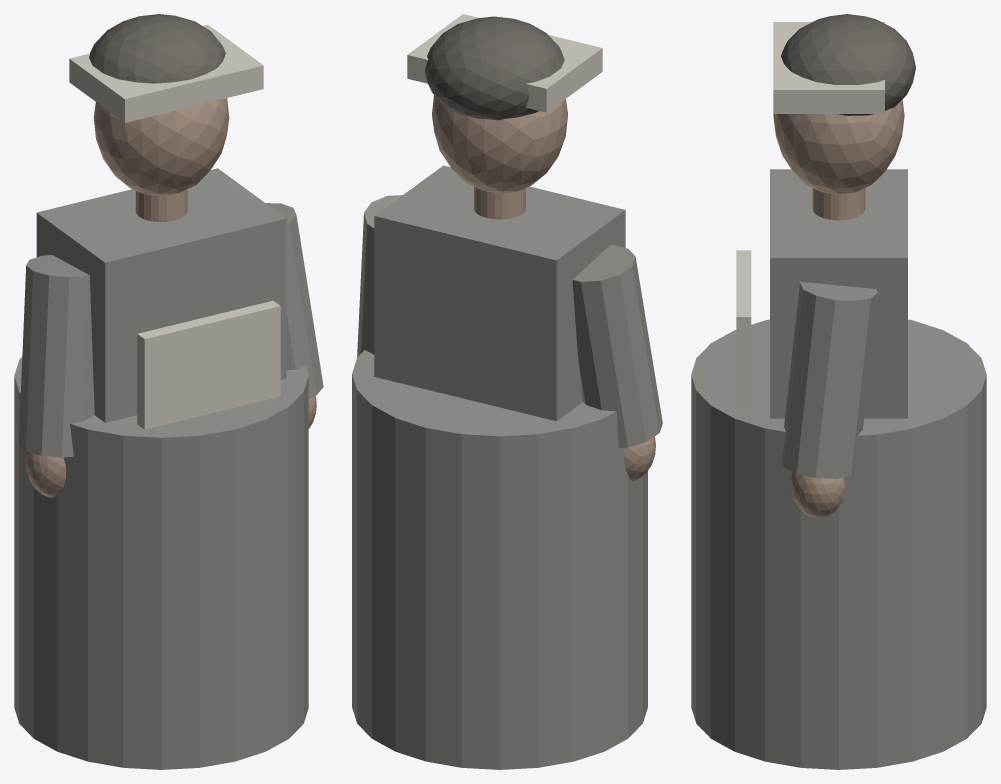
Rendered from ward-nurse.glb.
3 renders of one model, left to right at view 1: azimuth 30°, elevation 25°; view 2: azimuth 150°, elevation 25°; view 3: azimuth 270°, elevation 25°, orthographic.
Parts seen in each view (by area): view 1: skirt, bodice, linen-apron, arm--0.34, head, haircap, headcloth, arm-0.34, hand--0.34, neck; view 2: skirt, bodice, arm--0.34, haircap, head, headcloth, arm-0.34, neck, hand--0.34; view 3: skirt, bodice, arm-0.34, head, haircap, headcloth, linen-apron, hand-0.34, neck.
Part boxes in pixels (box(x1,y1,x2,y2)): skirt: box(14, 357, 308, 769); bodice: box(36, 168, 286, 422); linen-apron: box(137, 300, 280, 429); arm--0.34: box(18, 255, 94, 457); head: box(93, 98, 229, 195); haircap: box(89, 14, 225, 83); headcloth: box(69, 24, 263, 122); arm-0.34: box(266, 203, 323, 398); hand--0.34: box(26, 452, 65, 497); neck: box(135, 189, 187, 221); skirt: box(352, 350, 647, 769); bodice: box(374, 165, 625, 421); arm--0.34: box(572, 245, 662, 447); haircap: box(425, 16, 564, 120); head: box(432, 95, 567, 193); headcloth: box(407, 14, 602, 112); arm-0.34: box(357, 195, 402, 357); neck: box(474, 186, 525, 219); hand--0.34: box(624, 436, 655, 481); skirt: box(691, 319, 986, 769); bodice: box(770, 169, 907, 418); arm-0.34: box(781, 282, 877, 478); head: box(773, 99, 904, 194); haircap: box(781, 14, 915, 115); headcloth: box(773, 22, 884, 113); linen-apron: box(736, 250, 751, 407); hand-0.34: box(791, 472, 844, 518); neck: box(812, 188, 865, 220).
Size of the model in its own units: 1.04 by 2.3 by 0.9.
